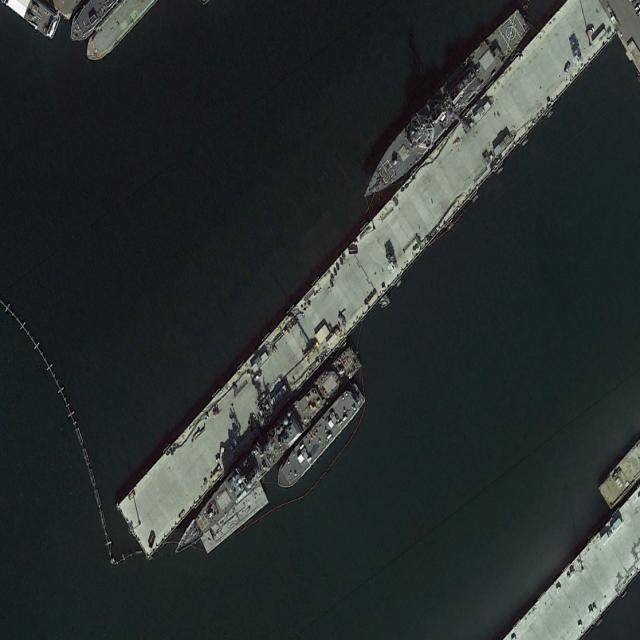Cruiser: (167, 339, 363, 570)
Destroyer: (354, 4, 533, 212)
Other Ship: (272, 379, 368, 497)
